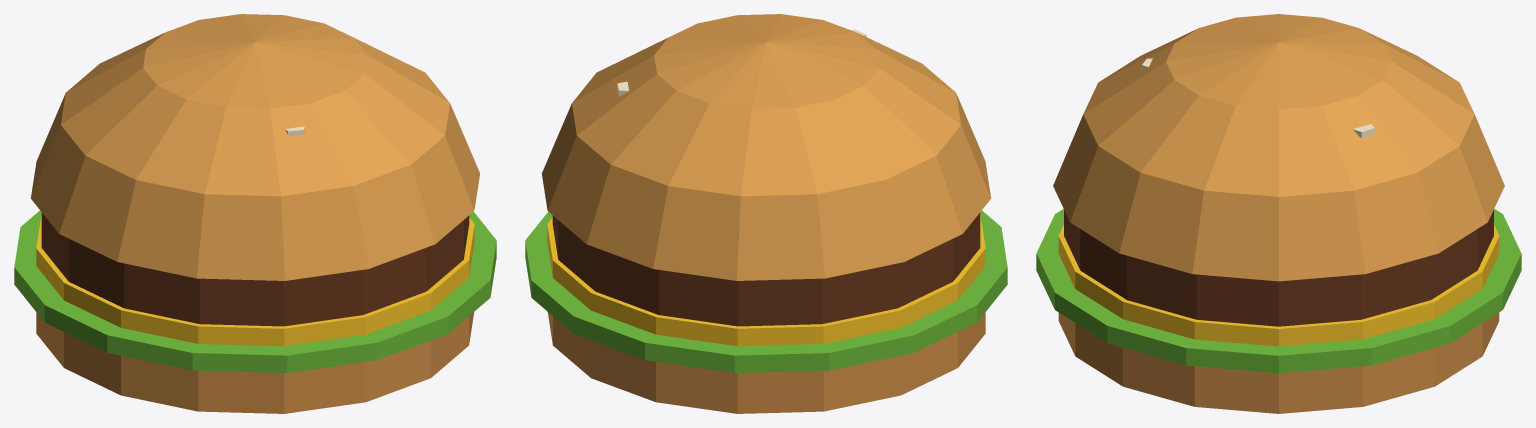
The model's file is burger.obj.
3 renders of one model, left to right at view 1: azimuth 30°, elevation 25°; view 2: azimuth 150°, elevation 25°; view 3: azimuth 270°, elevation 25°, orthographic.
Parts seen in each view (by area): view 1: burger; view 2: burger; view 3: burger.
Boxes of the visible parts, x1,y1,x2,y2 form: burger: (14, 14, 496, 413); burger: (525, 14, 1007, 413); burger: (1036, 14, 1521, 413).
Bounding box in the file's own units: 10 × 6.33 × 10.
